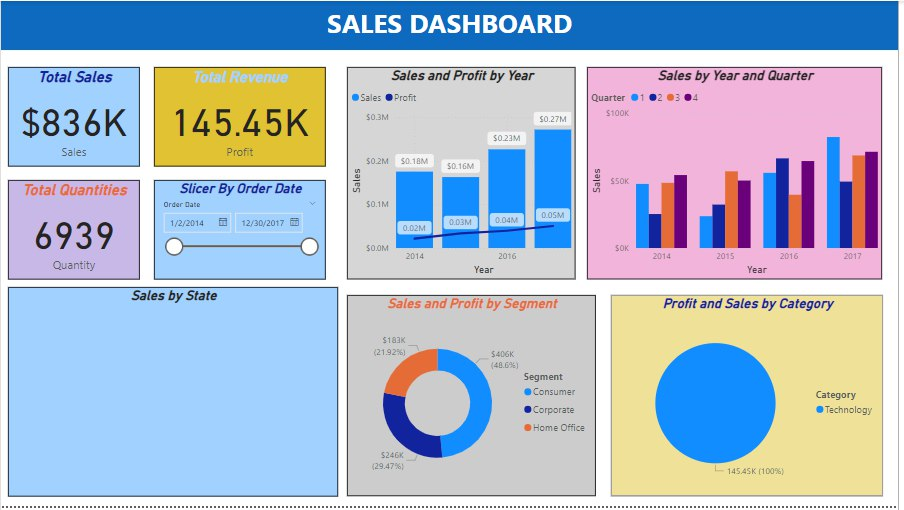

The page's visual inventory and layout, read from the dashboard file:
{"tool":"powerbi","page":{"name":"Overall Sales","canvas":[1280,720],"ordinal":0},"visuals":[{"type":"textbox","box":[0,0,1280.3,69.7],"z":0},{"type":"card","title":"Total Sales","fields":{"Values":["Sum(Table.Sales)"]},"box":[10.5,94.7,188.2,142.1],"z":1000},{"type":"card","title":"Total Quantities","fields":{"Values":["Sum(Table.Quantity)"]},"box":[10.5,255.3,188.2,142.1],"z":2000},{"type":"card","title":"Total Revenue","fields":{"Values":["Sum(Table.Profit)"]},"box":[218.4,94.7,244.7,142.1],"z":3000},{"type":"slicer","title":"Slicer By Order Date","fields":{"Values":["Table.Order Date"]},"box":[218.4,255.3,244.7,142.1],"z":4000},{"type":"lineStackedColumnComboChart","title":"Sales and Profit by Year","fields":{"Y":["Sum(Table.Sales)"],"Y2":["Sum(Table.Profit)"],"Category":["Table.Order Date.Variation.Datumshierarchie.Jahr","Table.Order Date.Variation.Datumshierarchie.Quartal","Table.Order Date.Variation.Datumshierarchie.Monat","Table.Order Date.Variation.Datumshierarchie.Tag"]},"box":[493.4,94.7,326.3,302.6],"z":5000},{"type":"clusteredColumnChart","title":"Sales by Year and Quarter","fields":{"Category":["Table.Year.Variation.Datumshierarchie.Jahr","Table.Year.Variation.Datumshierarchie.Quartal","Table.Year.Variation.Datumshierarchie.Monat","Table.Year.Variation.Datumshierarchie.Tag"],"Series":["Table.Quarter"],"Y":["Sum(Table.Sales)"]},"box":[836.9,94.7,421.1,302.6],"z":6000},{"type":"donutChart","fields":{"Category":["Table.Segment"],"Y":["Sum(Table.Sales)"]},"box":[493.4,419.8,355.3,286.9],"z":7000},{"type":"pieChart","fields":{"Category":["Table.Category"],"Y":["Sum(Table.Profit)"]},"box":[869.8,419.8,388.2,286.9],"z":8000},{"type":"esriVisual","fields":{"Location":["Table.State"]},"box":[10.5,407.9,471.1,298.7],"z":9000}]}

Visuals, with their boxes in screenshot pixels (x1, y1, x2, y2), scaled from the page's 1280x720 canvas onto the 904x510 screenshot:
textbox: box(0, 0, 903, 49)
"Total Sales" card: box(7, 67, 140, 168)
"Total Quantities" card: box(7, 181, 140, 281)
"Total Revenue" card: box(154, 67, 327, 168)
"Slicer By Order Date" slicer: box(154, 181, 327, 281)
"Sales and Profit by Year" lineStackedColumnComboChart: box(348, 67, 579, 281)
"Sales by Year and Quarter" clusteredColumnChart: box(591, 67, 888, 281)
donutChart - Table.Segment x Sum(Table.Sales): box(348, 297, 599, 501)
pieChart - Table.Category x Sum(Table.Profit): box(614, 297, 888, 501)
esriVisual - Table.State: box(7, 289, 340, 501)
